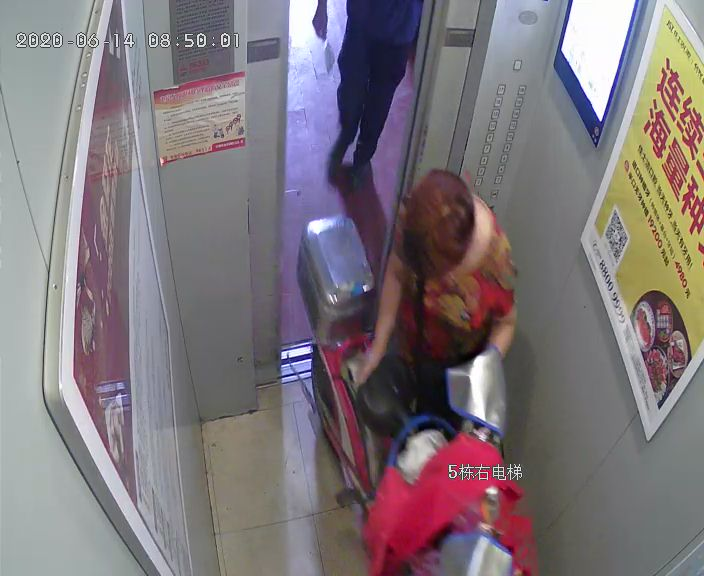Electric-bicycle: (293, 216, 531, 576)
